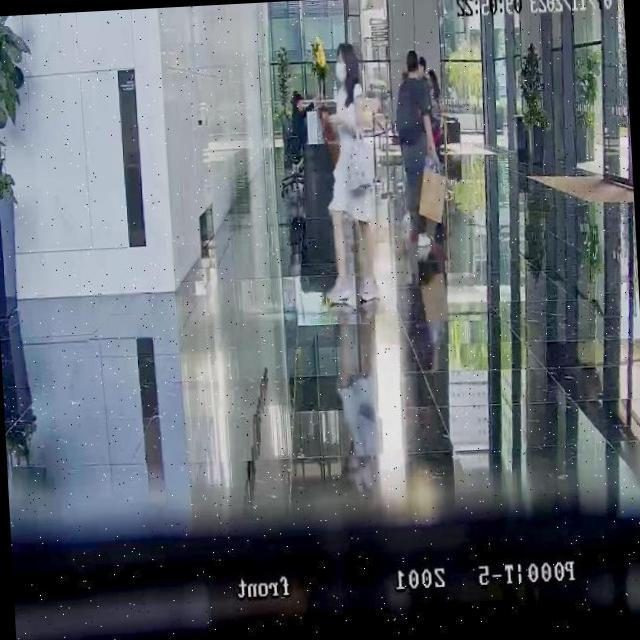person: (311, 41, 382, 310), (392, 48, 441, 251), (418, 55, 444, 155), (289, 90, 309, 150)
